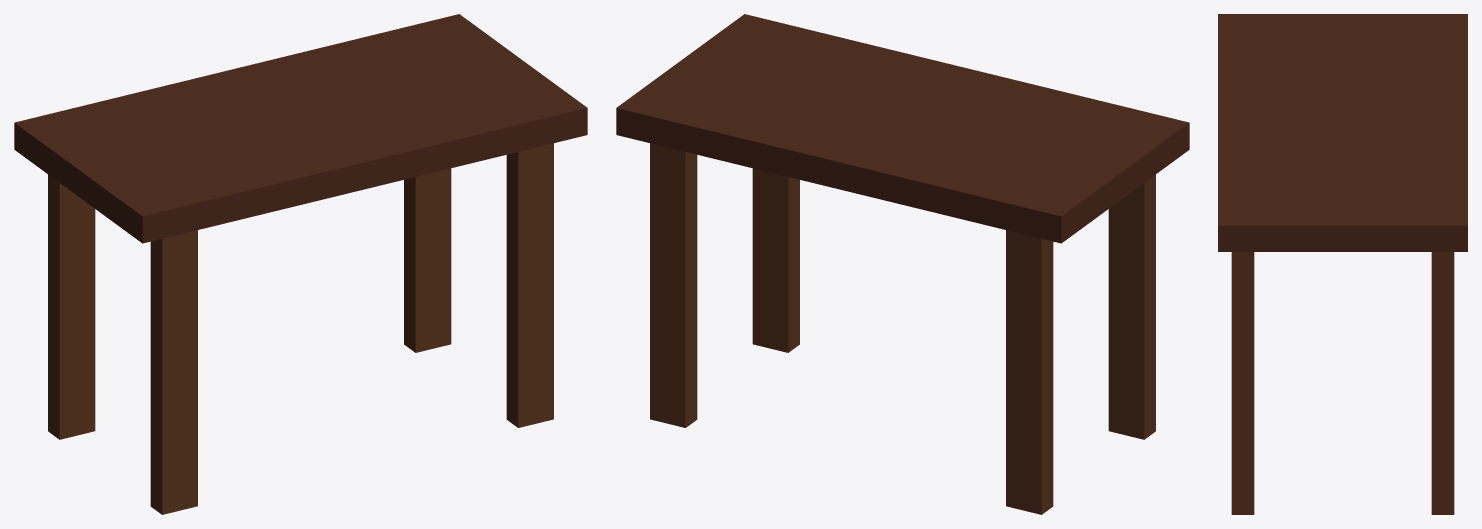
The model's file is nature_table.glb.
3 views of the same model, side by side, from view 1: azimuth 30°, elevation 25°; view 2: azimuth 150°, elevation 25°; view 3: azimuth 270°, elevation 25° (orthographic). The views are drawn at different scales.
Parts seen in each view (by area): view 1: body; view 2: body; view 3: body.
Part boxes in pixels (x1,y1,x2,y2): body: (14,14,587,514); body: (616,14,1189,514); body: (1218,14,1467,514).
Size of the model in its own units: 1.2 by 0.798 by 0.598.
Materials: 1 (1 with a texture image).
